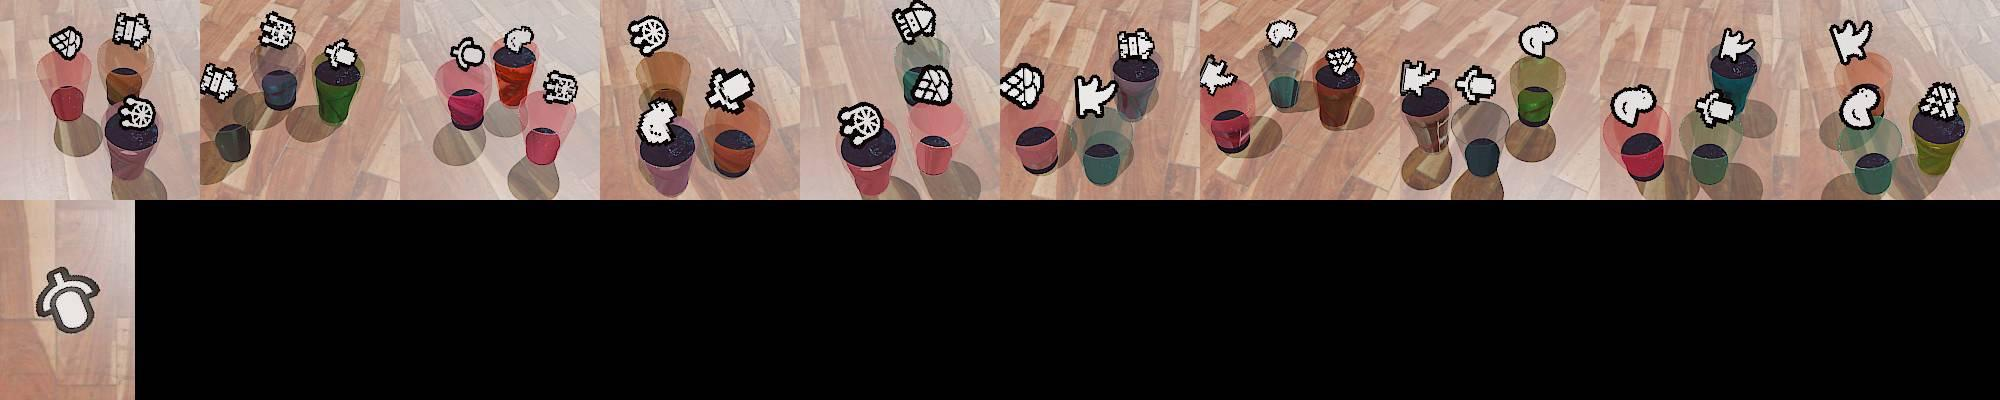icon: (35, 264, 102, 334), (705, 66, 758, 114), (636, 96, 680, 147), (837, 99, 884, 146), (1074, 71, 1119, 119), (892, 0, 937, 45), (1609, 84, 1657, 126), (999, 63, 1042, 109), (1829, 19, 1872, 64), (1838, 84, 1880, 129), (1916, 80, 1961, 122), (907, 64, 953, 105), (627, 15, 669, 58), (1455, 64, 1499, 103), (199, 62, 240, 102), (1517, 21, 1559, 59), (1400, 59, 1440, 98), (258, 10, 297, 50), (1694, 90, 1736, 127), (112, 11, 152, 49), (1199, 54, 1236, 95), (1715, 27, 1757, 63), (1117, 27, 1157, 62), (449, 35, 486, 71), (541, 70, 578, 106), (50, 25, 85, 61), (118, 95, 155, 129), (321, 38, 359, 71), (501, 24, 535, 55), (1323, 47, 1357, 78), (1264, 19, 1297, 49)
